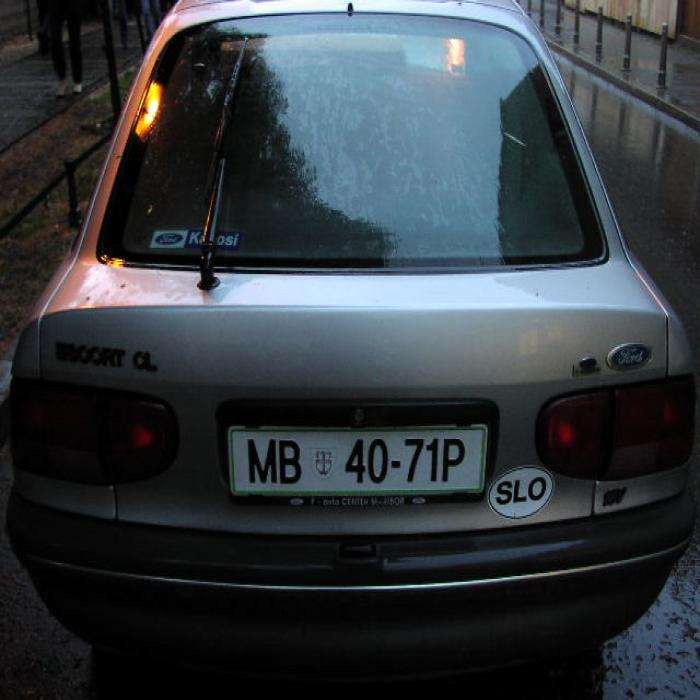number_plate: (225, 429, 482, 487)
